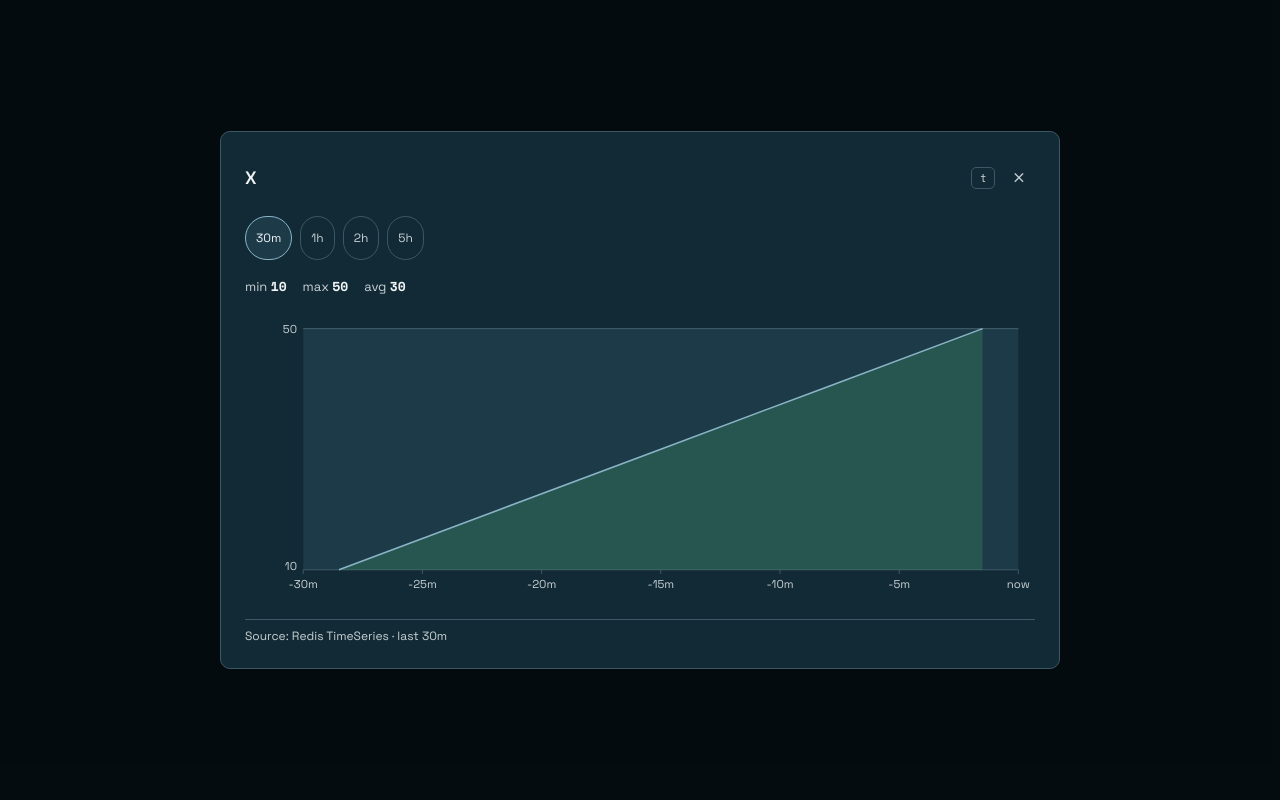
Test case: <MetricHistoryModal /> › picking a different window pill while zoomed clears the zoom
The image size is (1280, 800).
Press the mouse on the picture with test id "metric-history-modal-chart" at x=640, y=458, box x1=245 y1=312 x2=1035 y2=603
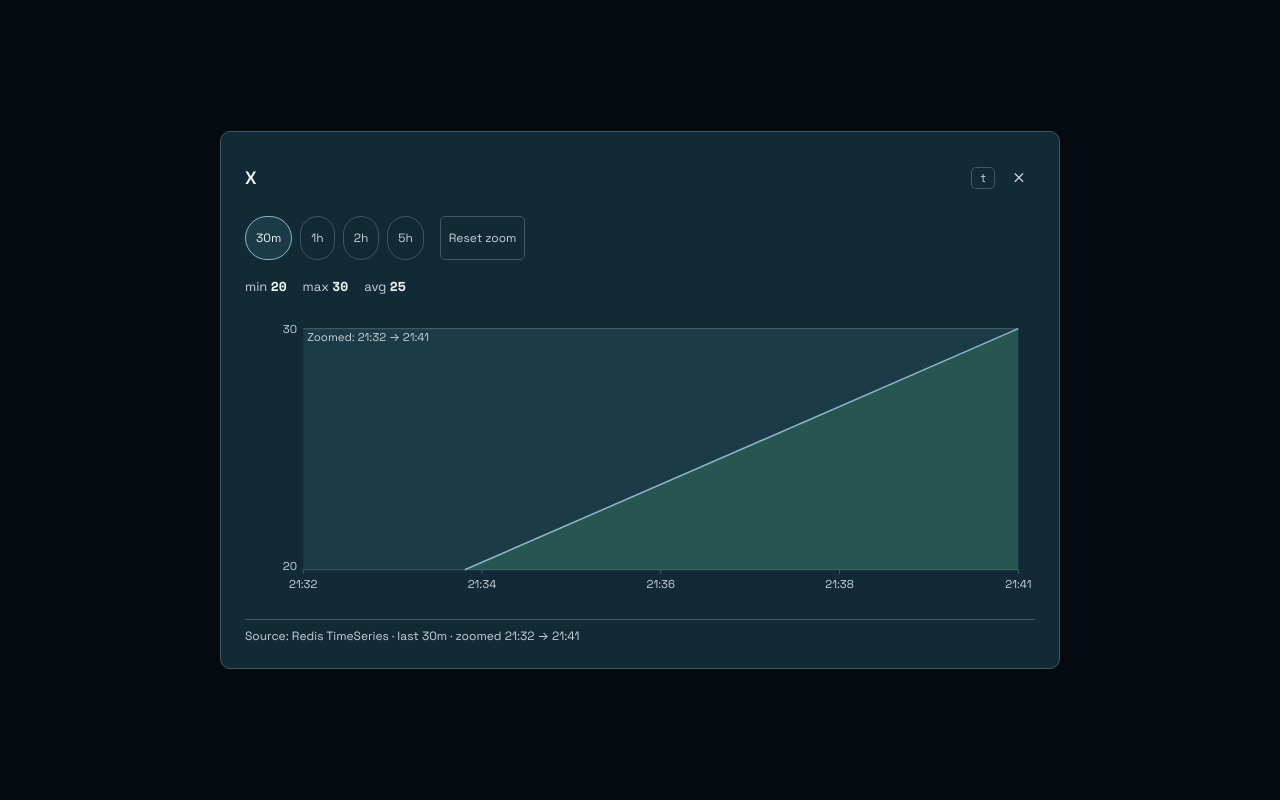
expect the button with test id "mhm-reset-zoom" is shown: met, box x1=440 y1=216 x2=526 y2=260
Click the radio button with test id "mhm-window-pill-1h". click: x=318, y=238
box: x1=300 y1=216 x2=335 y2=260
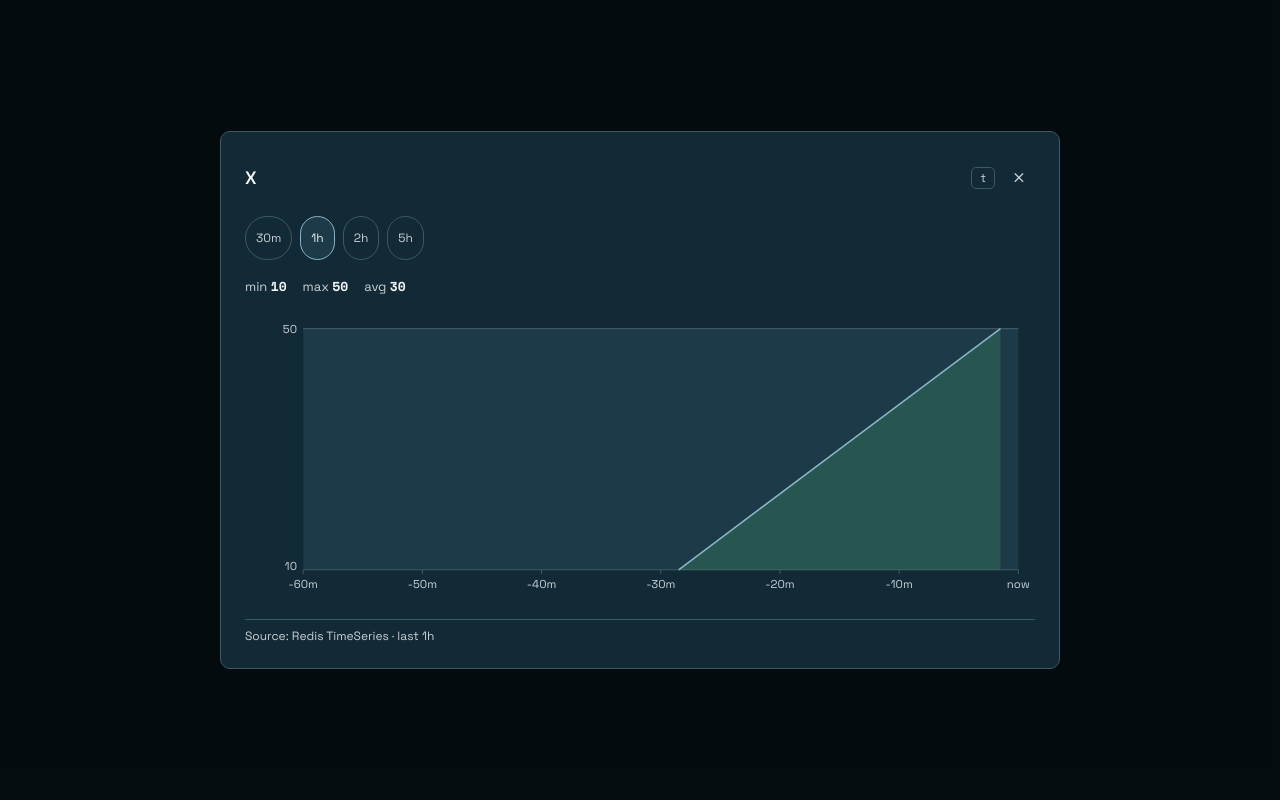
expect the button with test id "mhm-reset-zoom" is gone: met
